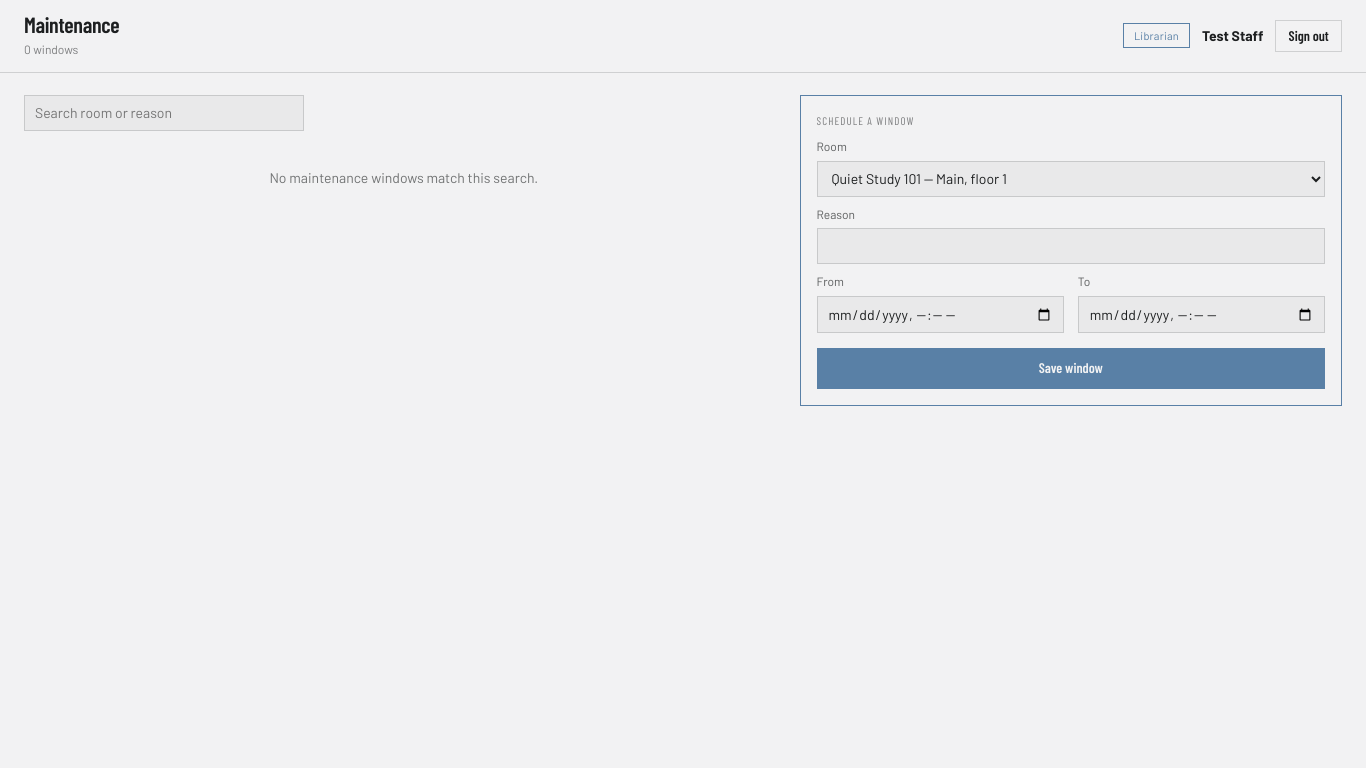
Test case: B3 web must-fix › lists the bookings a window overlaps and schedules anyway with force on confirm (CW-06)
In the field named "Reason": (1071, 246) [816,228,1325,264], type "AC"
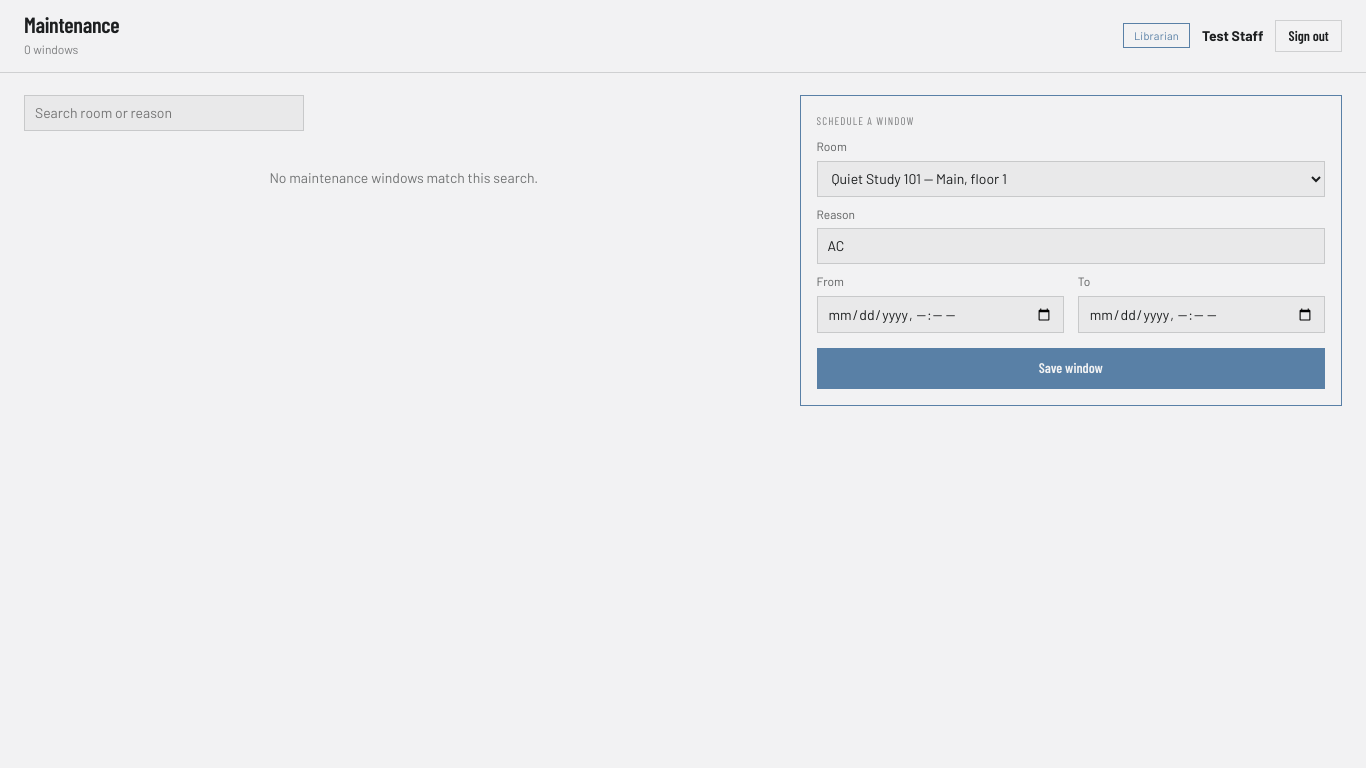
In the field named "From": (940, 315) [816,296,1064,333], type "2030-10-06T13:00"
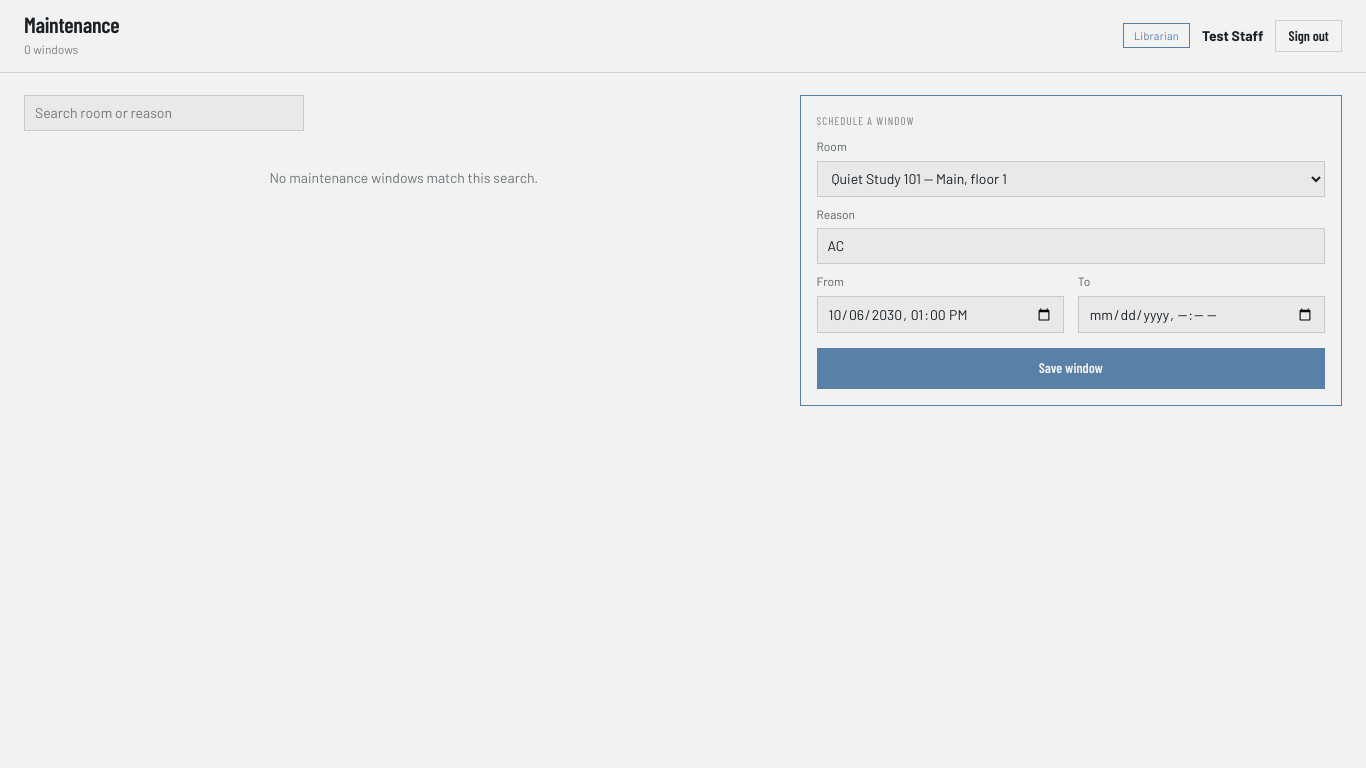
In the field named "To": (1201, 315) [1078,296,1325,333], type "2030-10-06T17:00"
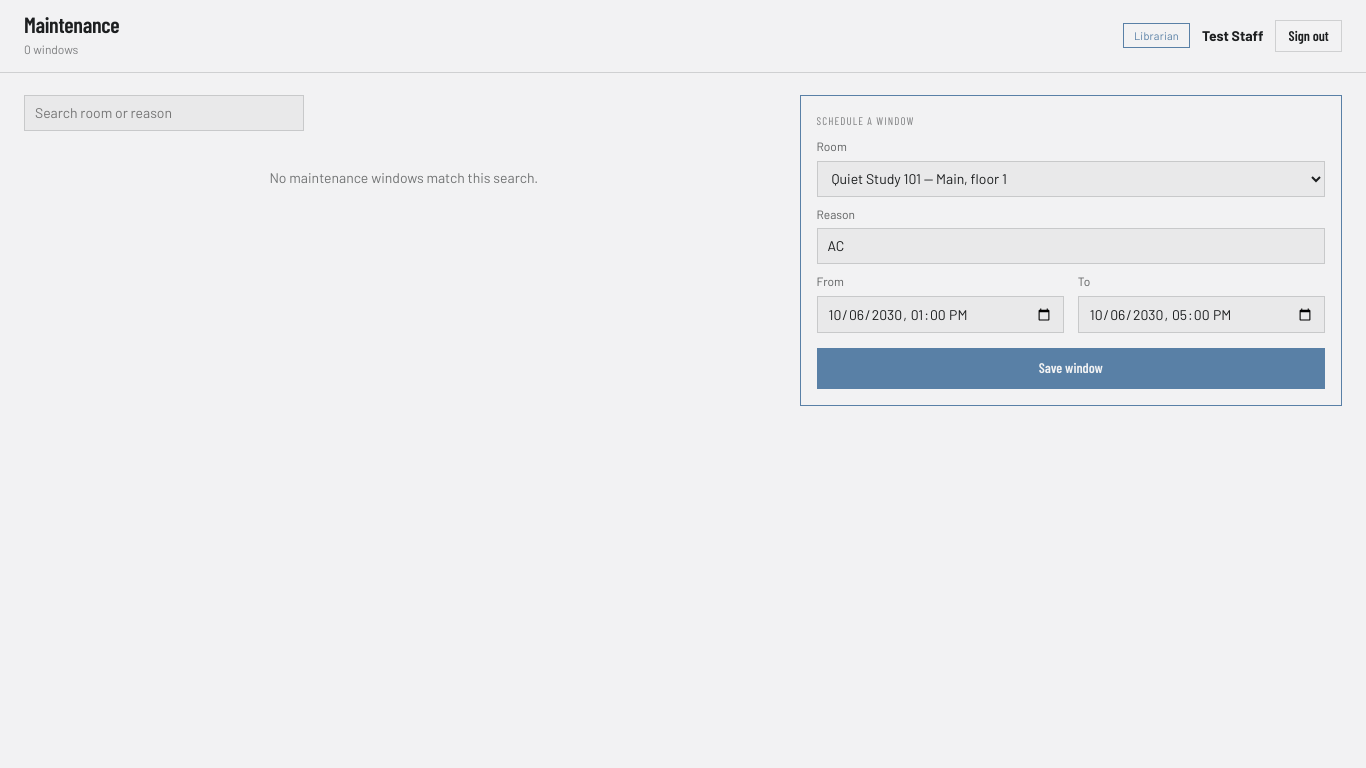
Click the button "Save window": (1071, 369) [816,348,1325,389]
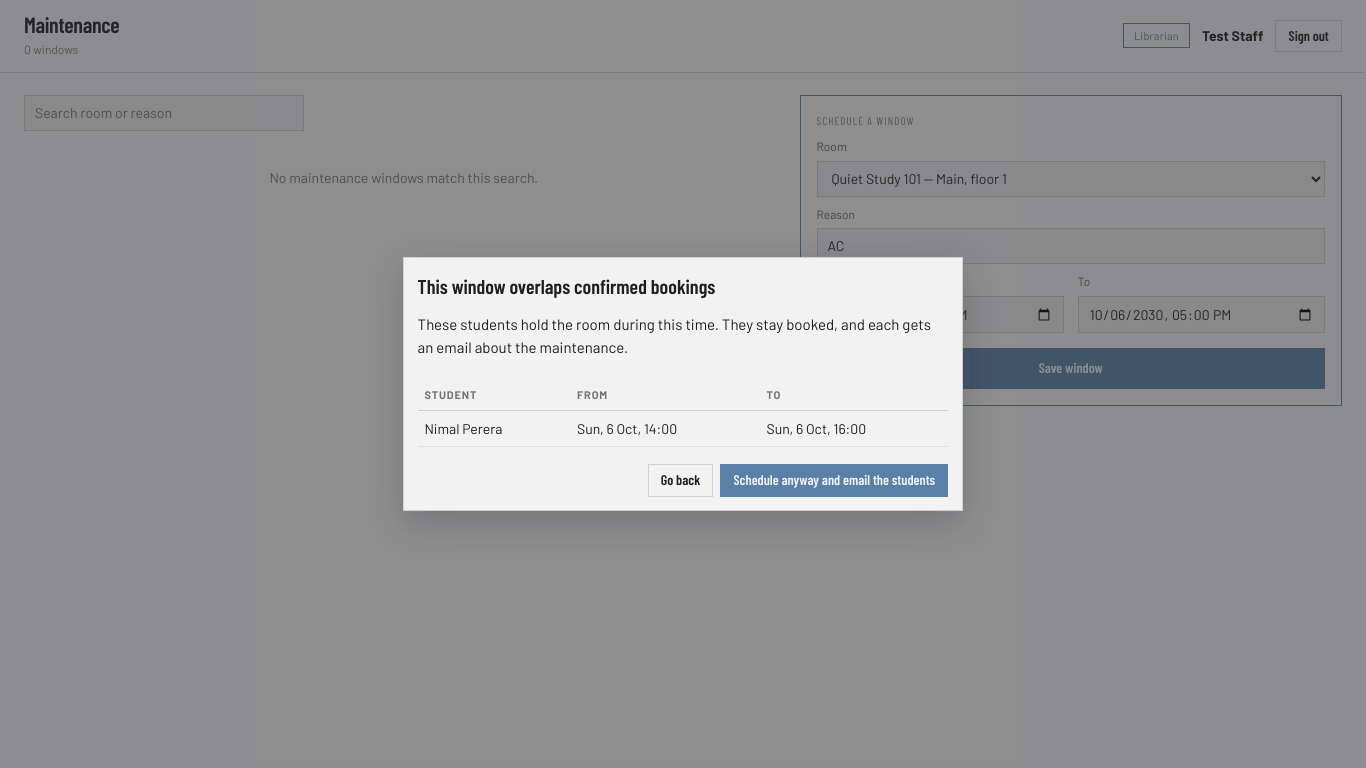
Expected: the text "Nimal Perera" is shown, [418,410,570,447]
Click the button "Schedule anyway and email the students": (834, 480) [720,464,948,497]
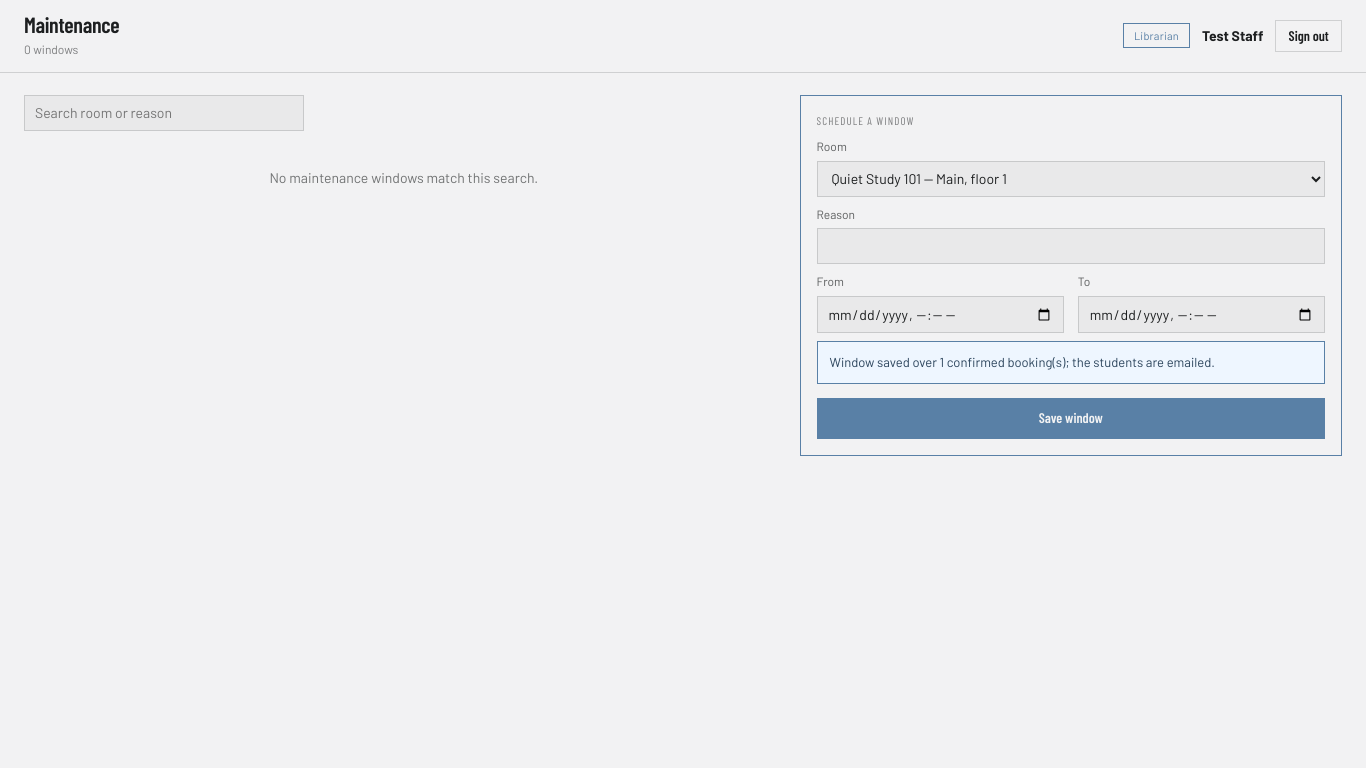
Expected: the message shows "the students are emailed", [830,354,1215,370]
